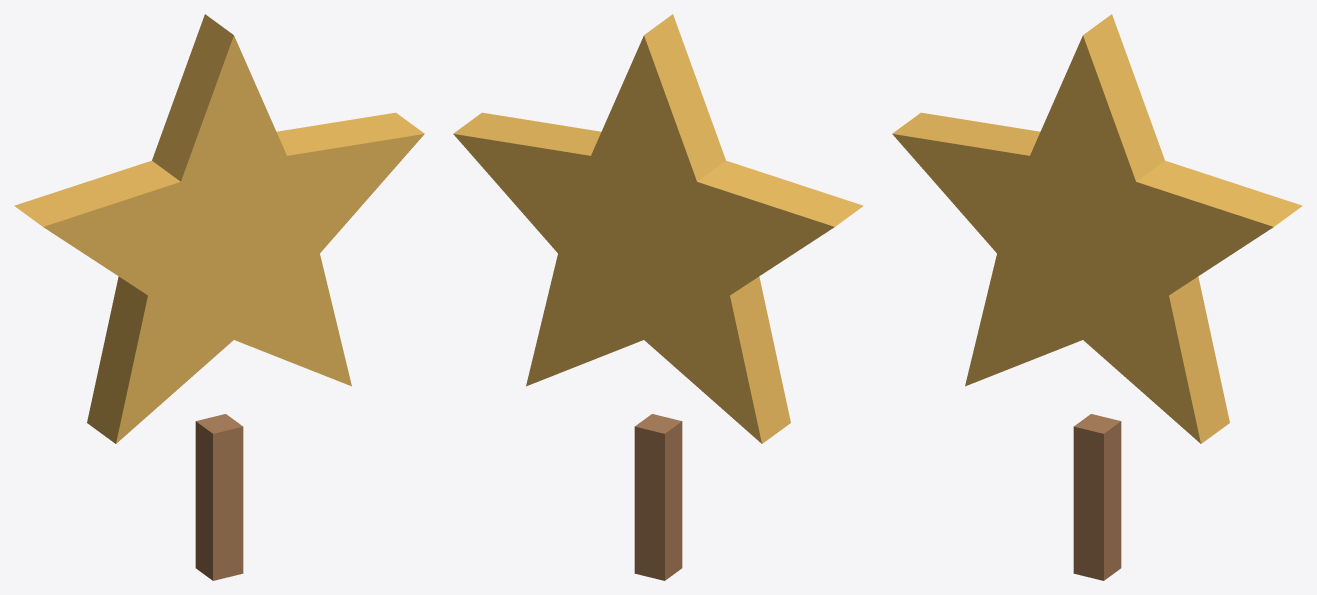
File: deco_star_ornament.obj
The picture shows the model from 3 angles, left to right: view 1: azimuth 30°, elevation 25°; view 2: azimuth 150°, elevation 25°; view 3: azimuth 330°, elevation 25°; orthographic projection.
Visible parts, largest first — view 1: deco_star_ornament; view 2: deco_star_ornament; view 3: deco_star_ornament.
Part boxes in pixels (box(x1,y1,x2,y2)): deco_star_ornament: box(14, 14, 424, 580); deco_star_ornament: box(453, 14, 863, 580); deco_star_ornament: box(892, 14, 1302, 580).
Bounding box in the file's own units: 0.038 × 0.052 × 0.005.
Materials: 1 (1 with a texture image).
